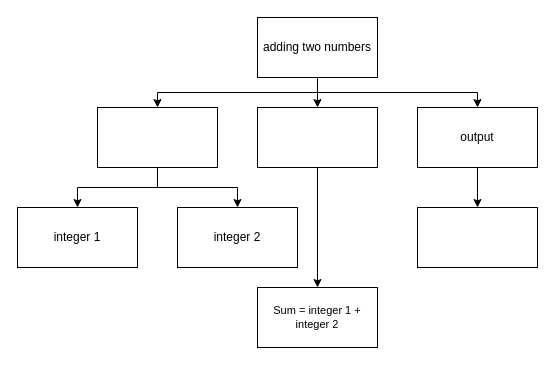
This 555x365 diagram has some shape labels left out. Here are the shapes that lost their labels. From the top down, the centre of each, then its label:
At (x=157, y=137): "input".
At (x=317, y=137): "process".
At (x=477, y=237): "show whole opperation".
